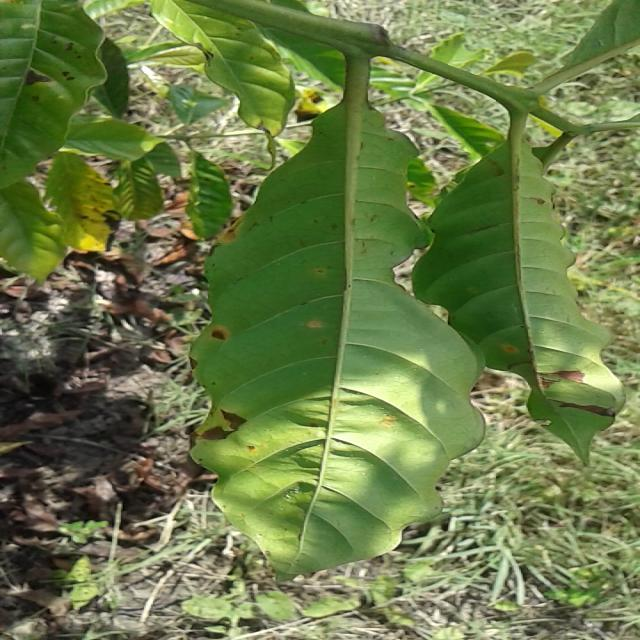Enfermedad-Roya: (191, 4, 486, 580)
